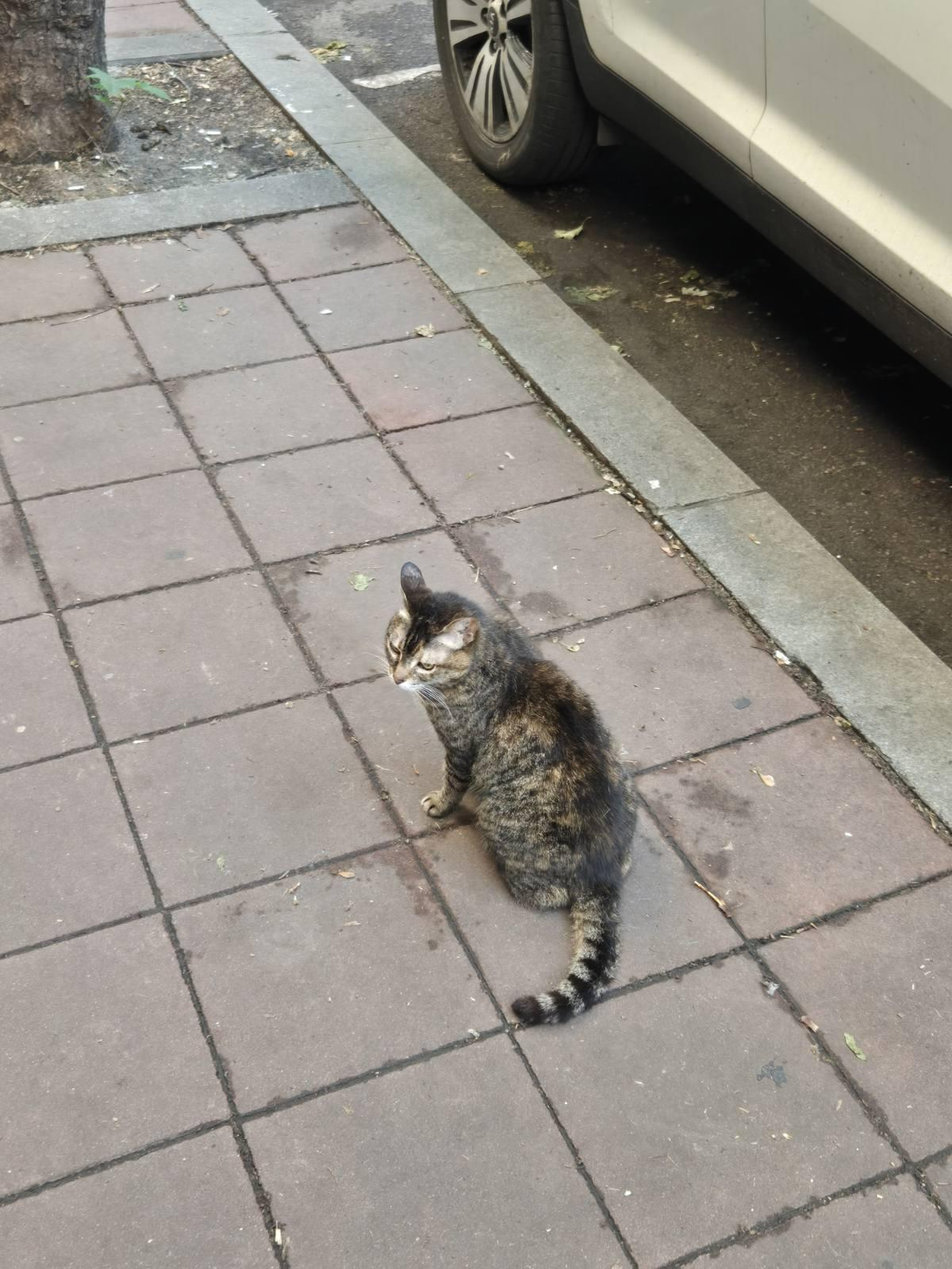macka: (382, 559, 640, 1027)
